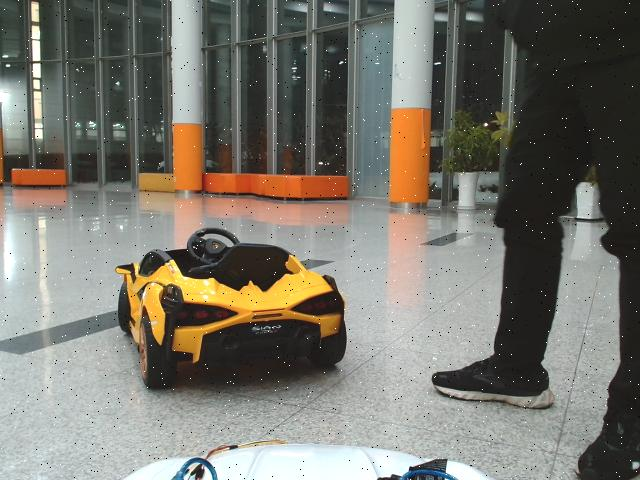car: (115, 228, 348, 391)
